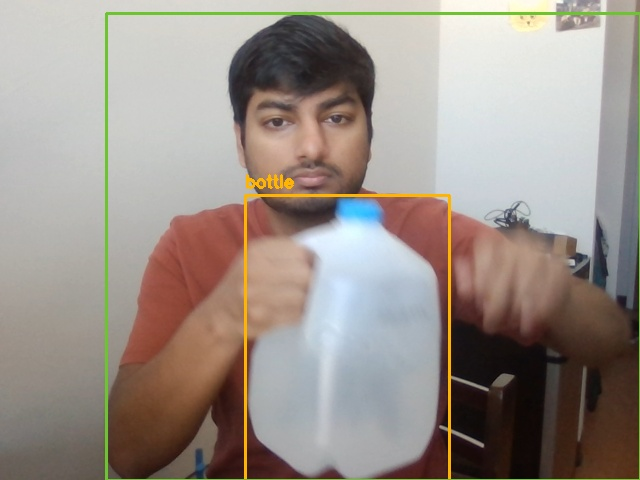bottle: (245, 195, 449, 480)
